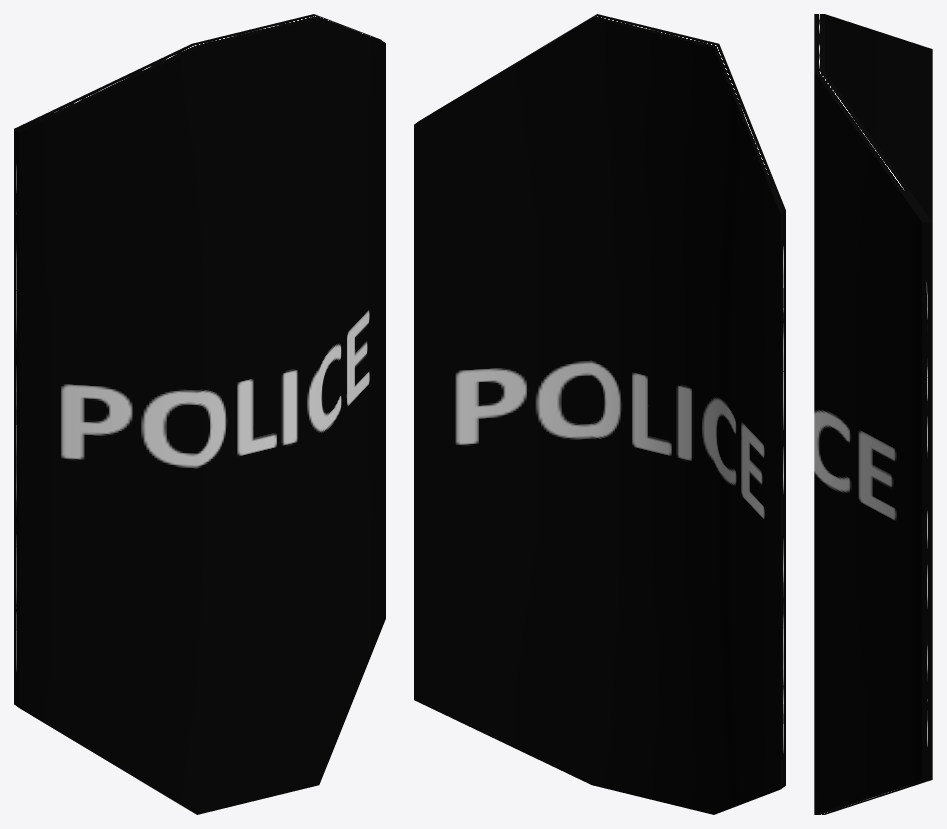
The model's file is shield.FBX.
3 views of the same model, side by side, from view 1: azimuth 30°, elevation 25°; view 2: azimuth 150°, elevation 25°; view 3: azimuth 270°, elevation 25° (orthographic). The views are drawn at different scales.
Parts seen in each view (by area): view 1: Box001; view 2: Box001; view 3: Box001.
Boxes of the visible parts, x1,y1,x2,y2 form: Box001: (14, 14, 385, 814); Box001: (414, 14, 785, 814); Box001: (814, 14, 932, 814).
Size of the model in its own units: 40 by 80 by 11.52.
